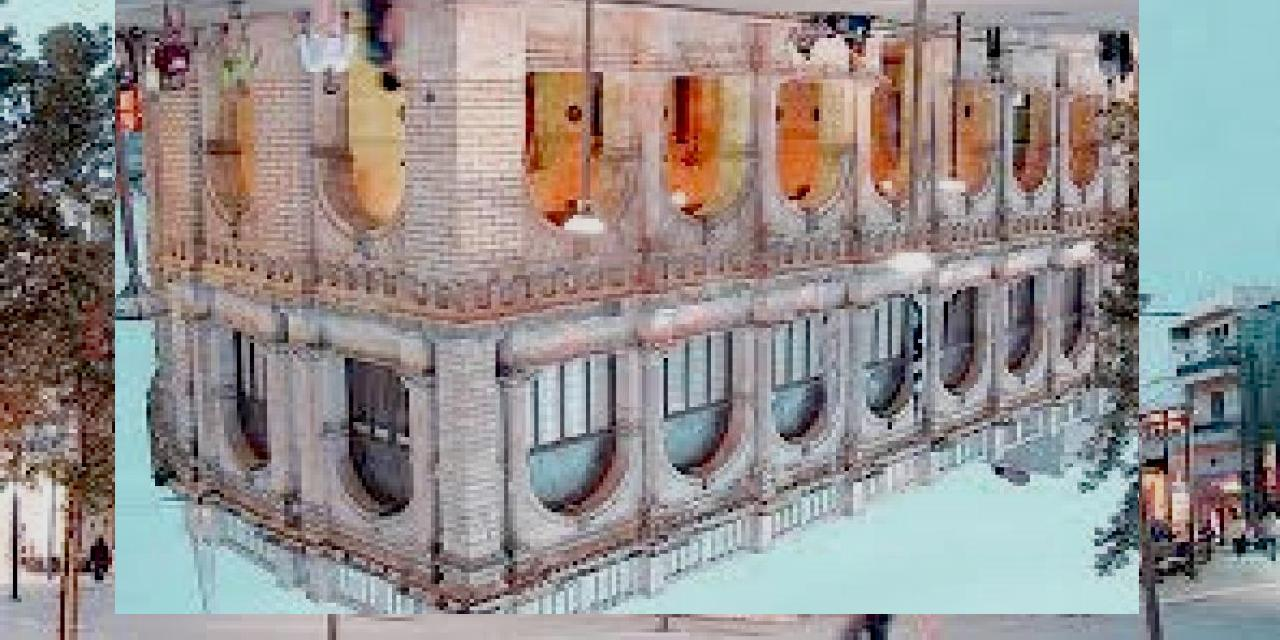Loggia: (116, 1, 1140, 615)
